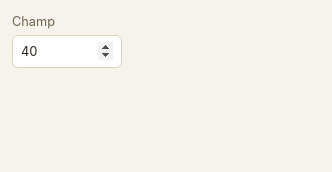
Test: NumberField (R1) › hors bornes au blur : ramené dans les bornes
Later steps or results of the test are not shown.
Replace the text in the number field labelled "Champ" with "250". click: [67, 52]
box: top-left (12, 35), bottom-right (122, 68)
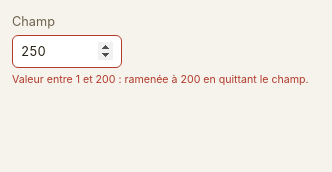
Expected: the text "Valeur entre 1 et 200 : ramenée à 200 en quittant le champ." is shown, top-left (12, 73), bottom-right (309, 86)
